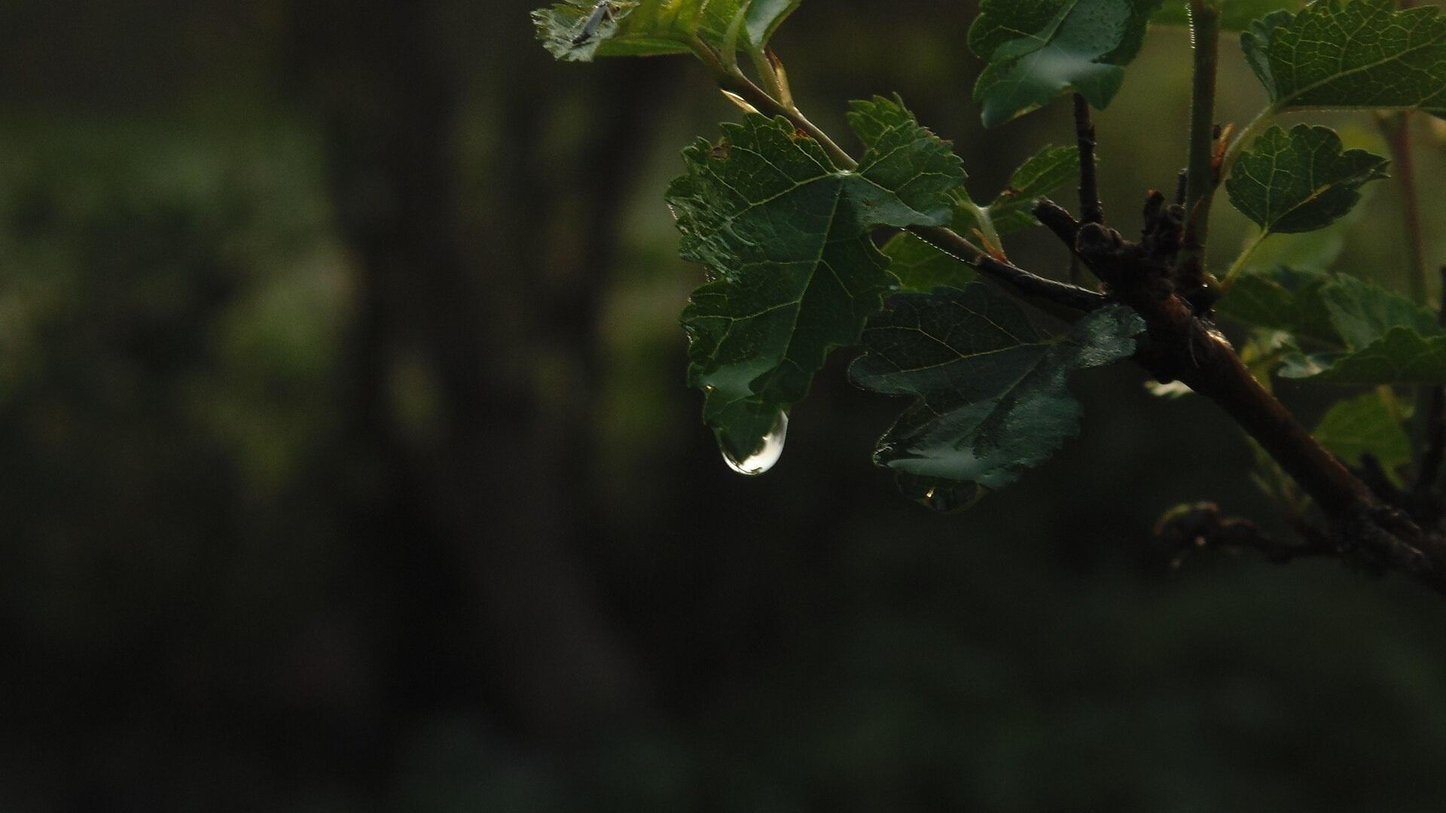water drop: (712, 399, 788, 479)
